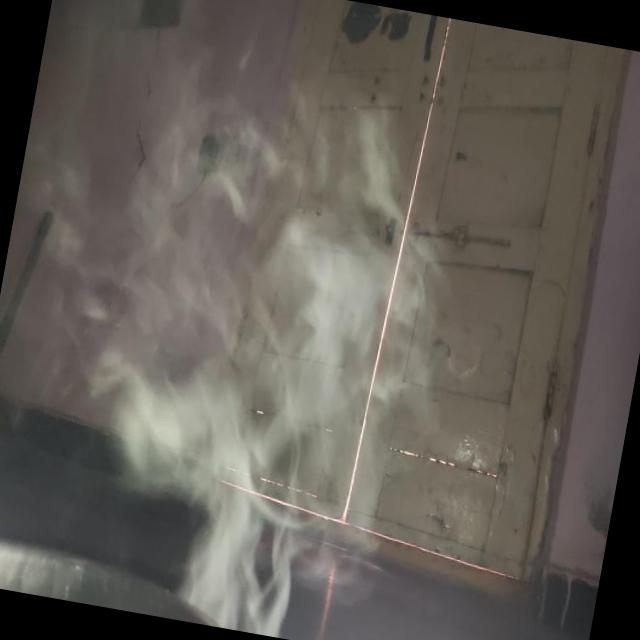smoke: (41, 145, 374, 608)
